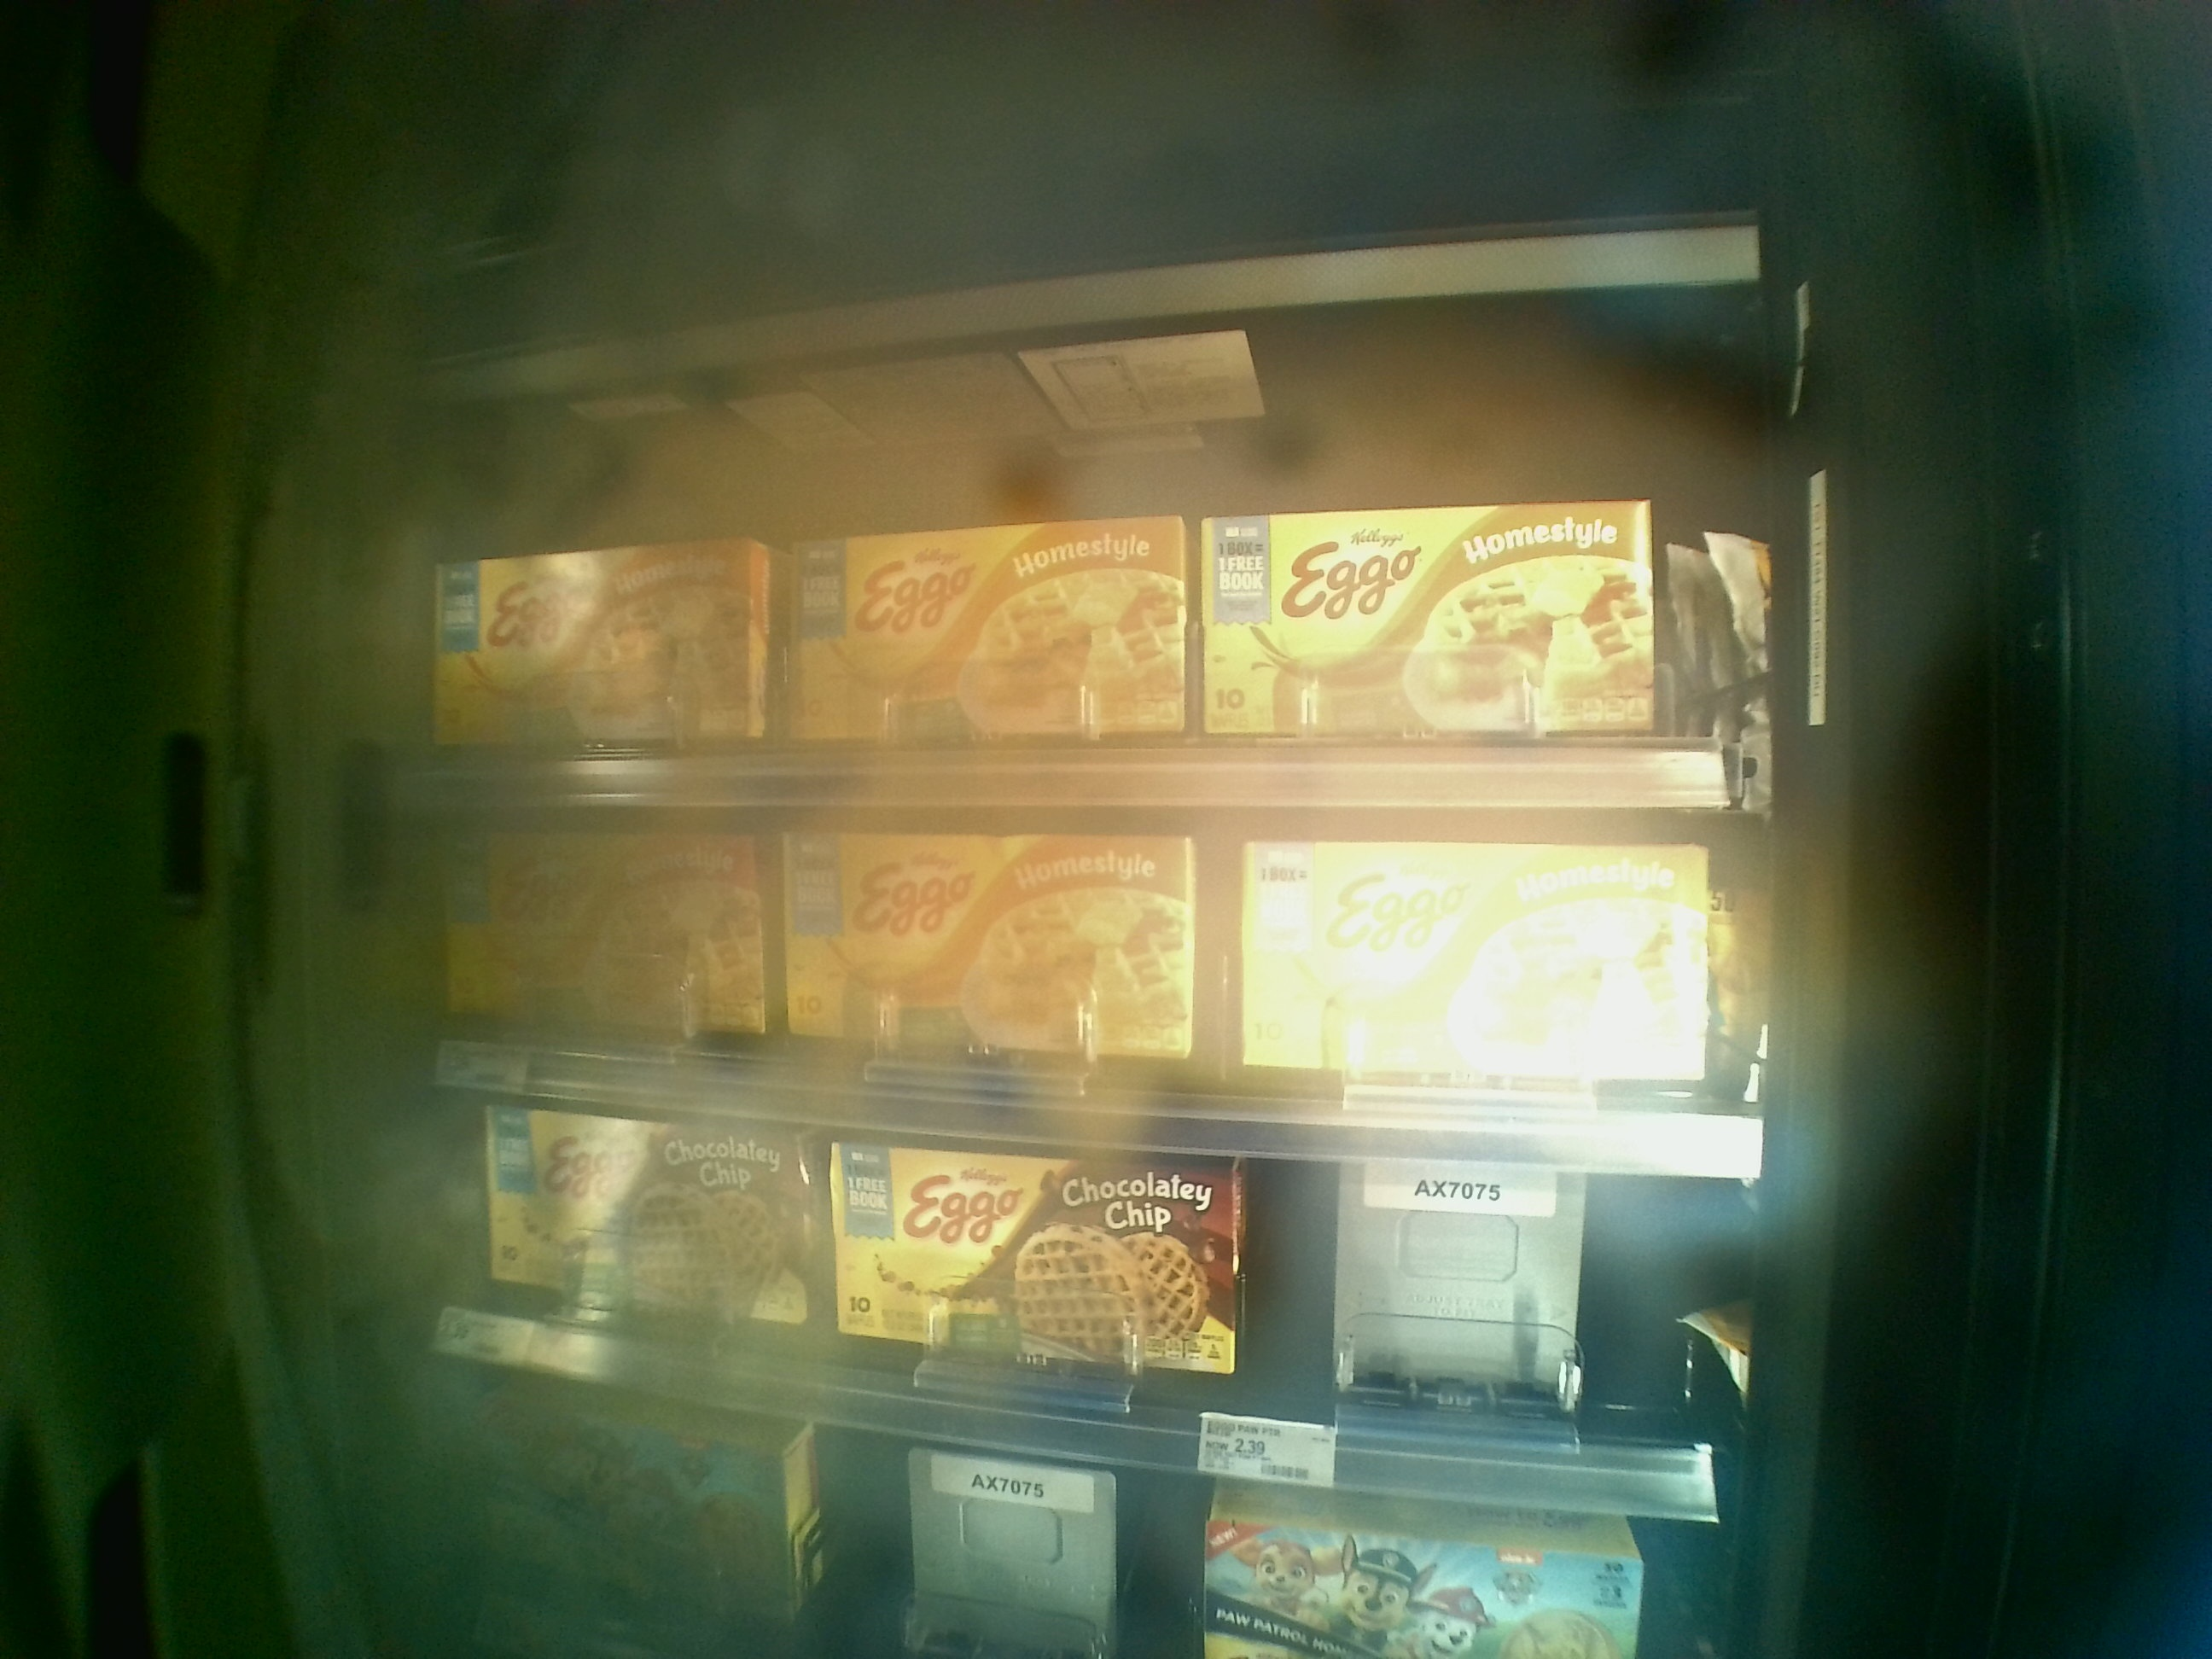shelf: (409, 803, 1764, 1175), (406, 448, 1757, 807)
